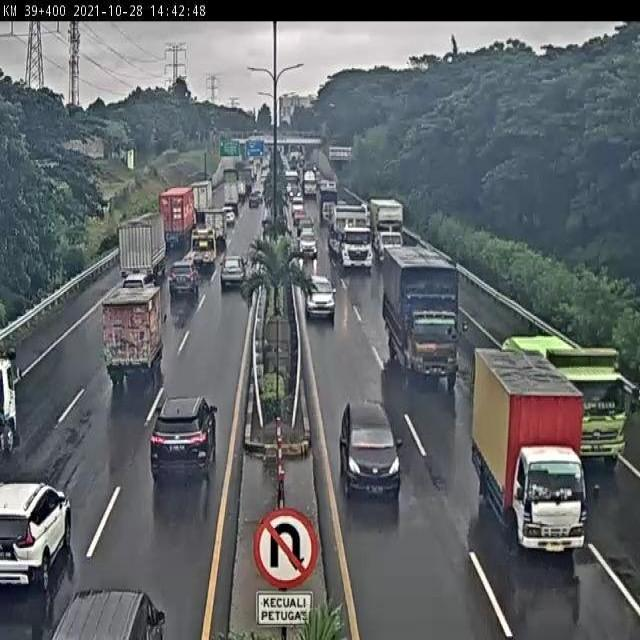car: (0, 479, 72, 592), (340, 400, 401, 499), (149, 396, 219, 477), (304, 271, 335, 321), (167, 259, 197, 296), (218, 253, 244, 288), (297, 230, 321, 262)
mid truck: (191, 225, 219, 258)
truck-l-: (502, 334, 625, 462), (384, 249, 459, 392), (370, 195, 404, 257)
truck-m-: (475, 347, 586, 548), (101, 284, 169, 380), (118, 216, 167, 279)
truck-xl-: (330, 206, 373, 270)
